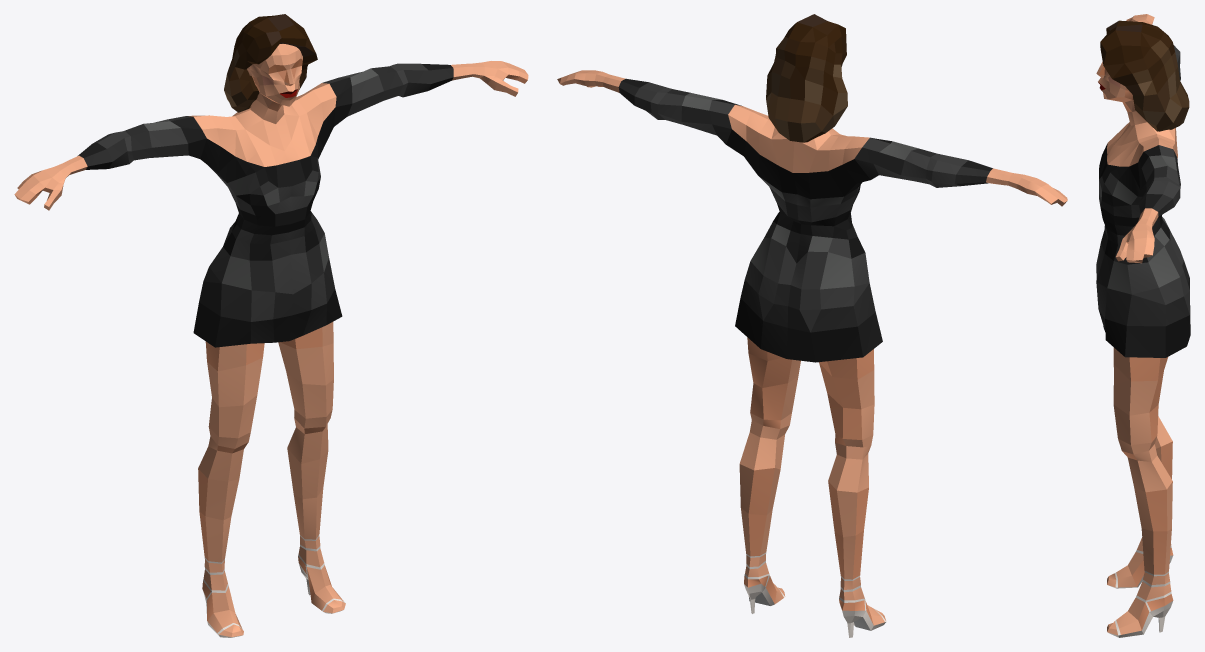
File: night_Female_A-model.obj
The picture shows the model from 3 angles, left to right: view 1: azimuth 30°, elevation 25°; view 2: azimuth 150°, elevation 25°; view 3: azimuth 270°, elevation 25°; orthographic projection. The views are drawn at different scales.
Visible parts, largest first — view 1: night_Female_A, acc_hair_med; view 2: night_Female_A, acc_hair_med; view 3: night_Female_A, acc_hair_med.
Boxes of the visible parts, box(x1,y1,x2,y2) form: night_Female_A: box(14, 44, 528, 637); acc_hair_med: box(224, 14, 317, 112); night_Female_A: box(557, 70, 1067, 637); acc_hair_med: box(766, 14, 847, 142); night_Female_A: box(1096, 14, 1190, 637); acc_hair_med: box(1100, 20, 1189, 131).
Size of the model in its own units: 153 by 171 by 25.01.
